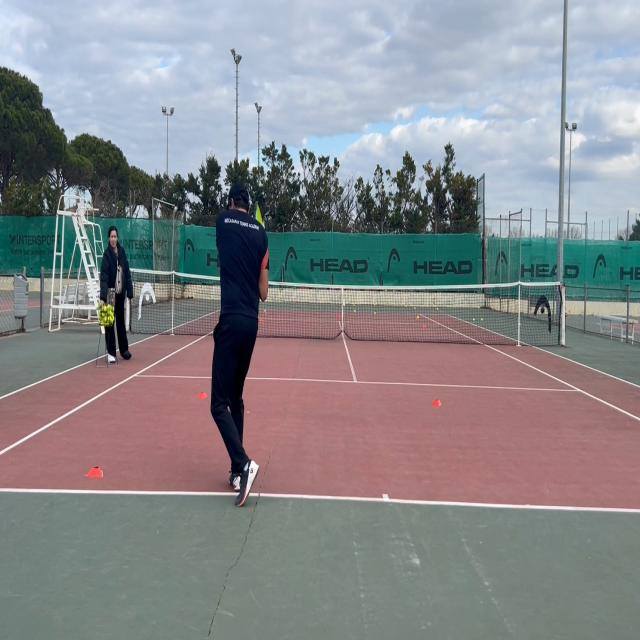ball: (373, 311, 376, 315), (472, 318, 475, 322), (264, 309, 266, 313), (354, 309, 356, 313), (352, 302, 354, 306), (374, 303, 376, 307), (405, 304, 407, 308), (414, 306, 416, 310), (417, 315, 419, 319), (436, 307, 438, 311), (481, 318, 483, 322), (478, 306, 480, 310), (518, 323, 520, 326)
